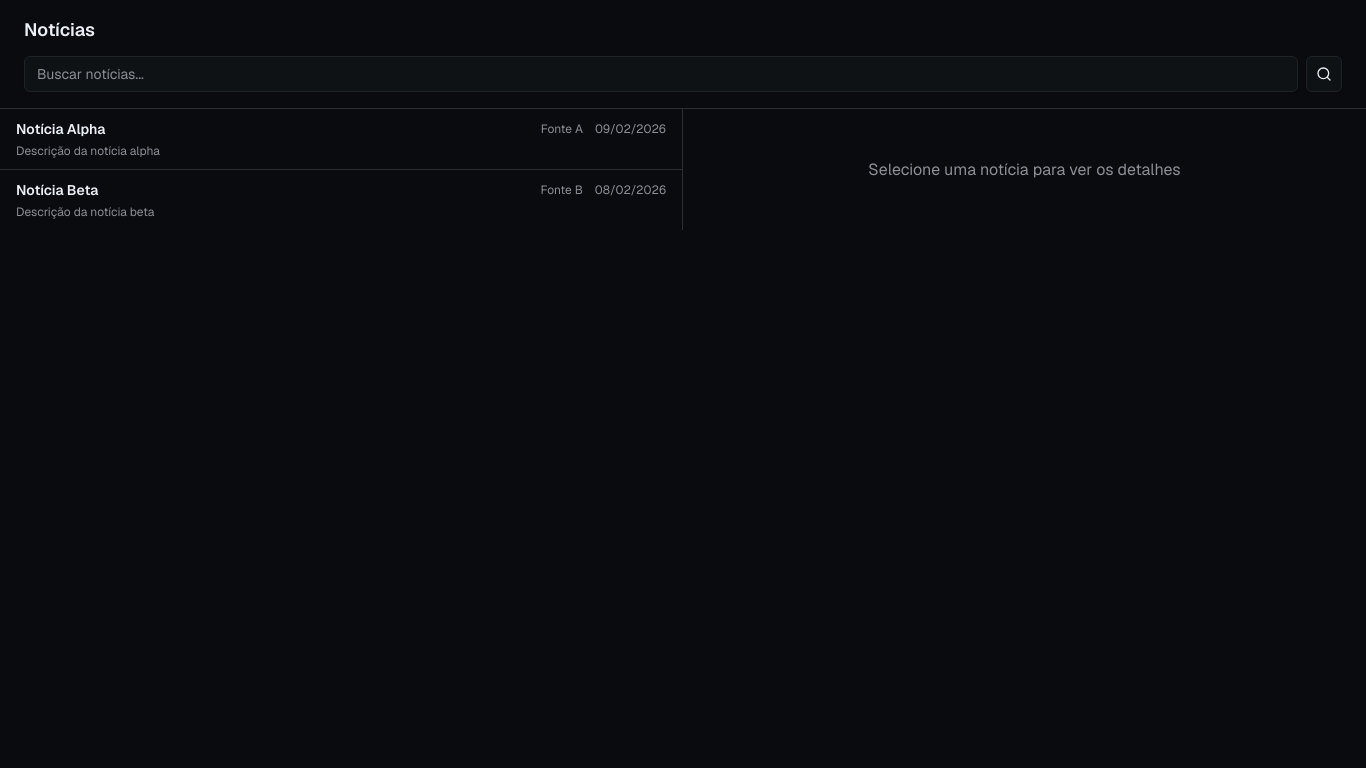
NewsPanel › shows news workspace when list item is clicked
This screenshot has width=1366, height=768.
Click the text "Notícia Alpha".
click(61, 129)  # box [16,120,106,138]
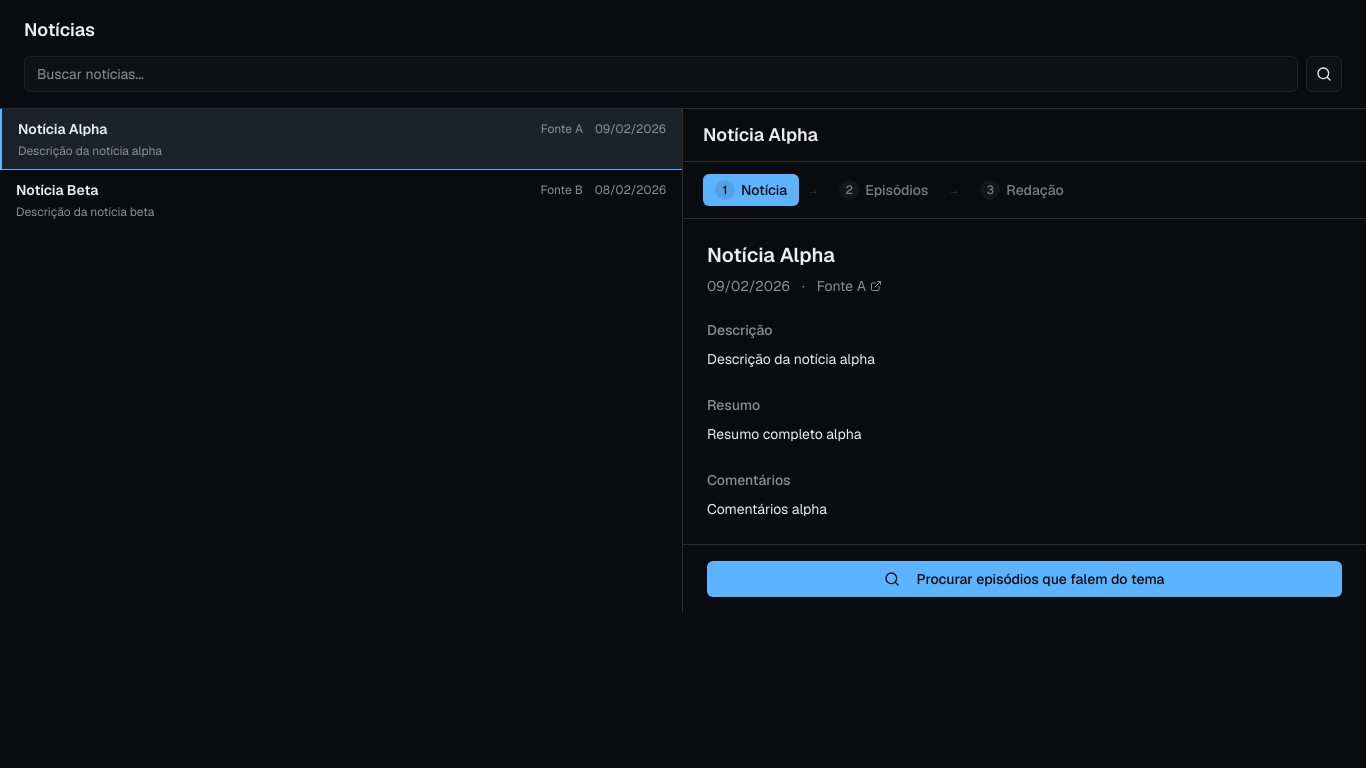
Now the element with test id "news-workspace" is shown, box [683,109,1365,613]
